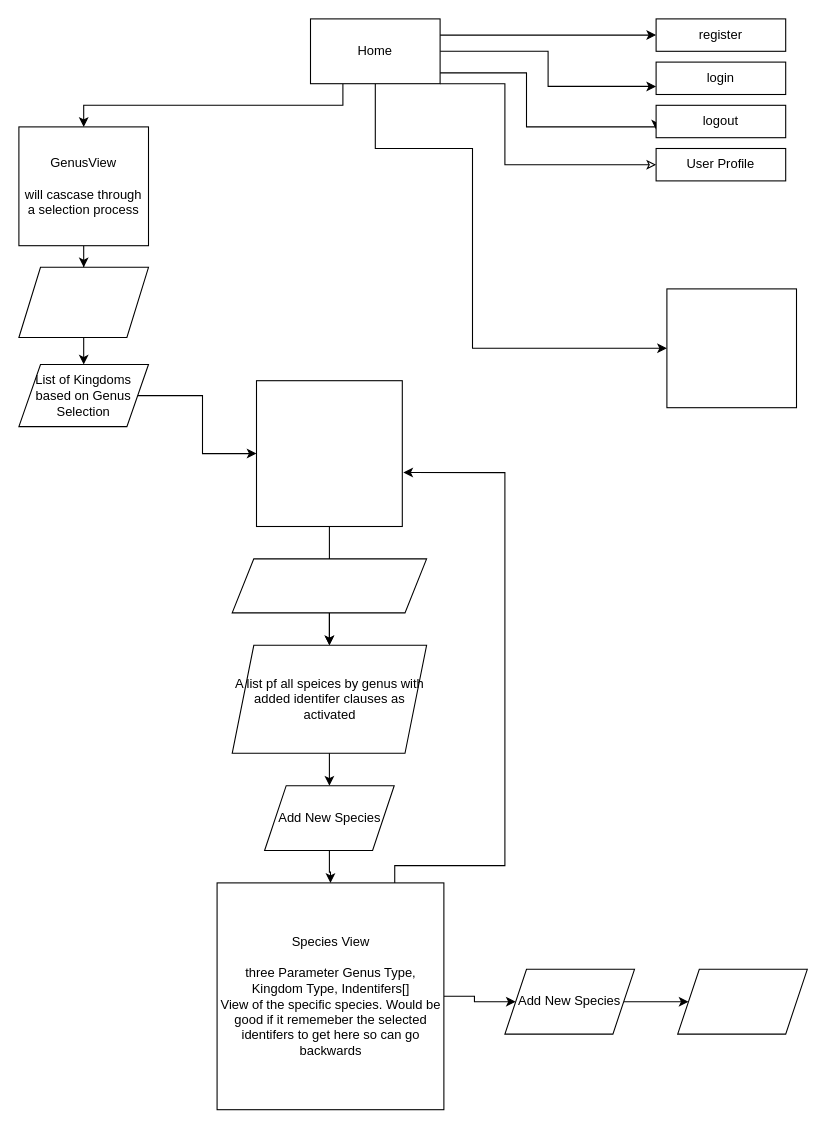
Some shapes in this 826 by 1129 pixel diagram are drawn without their labels. Here are the shapes that lost their labels. From the top down, the centre of each, then its label:
the point at 83,302: Genus List
the point at 731,348: Photo Gallery
the point at 328,453: KingdomView Need a single parameter of kind of Kingdom
the point at 329,585: Identifers for Kingdom type. Need to offer multiple
the point at 742,1001: Add new photo of species
